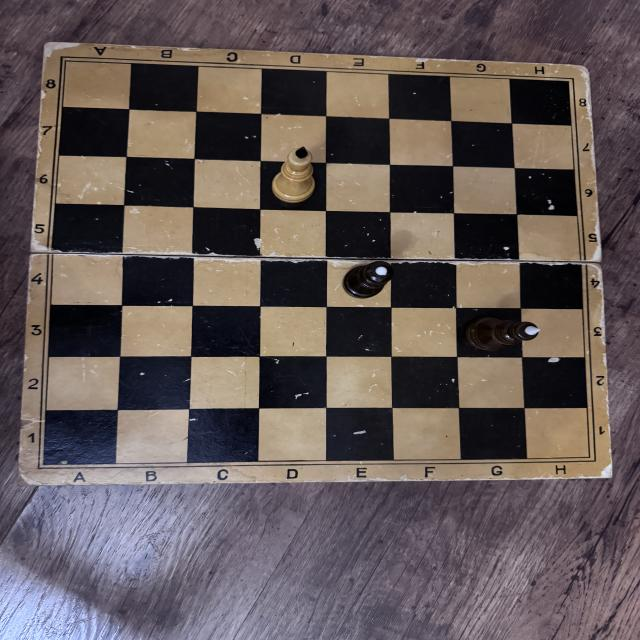black-king: (460, 315, 542, 353)
black-queen: (344, 260, 395, 299)
white-king: (271, 146, 318, 204)
